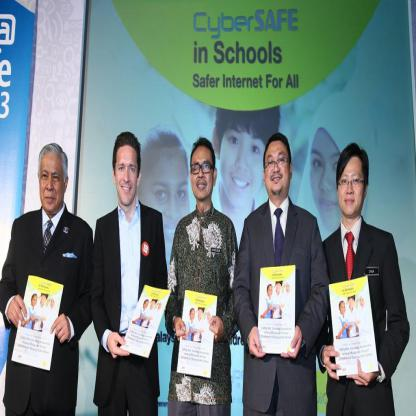face: (146, 154, 193, 256), (221, 115, 268, 201), (309, 141, 345, 224), (42, 158, 68, 215), (117, 140, 139, 203), (267, 140, 290, 197), (191, 148, 216, 200), (340, 163, 364, 213)
